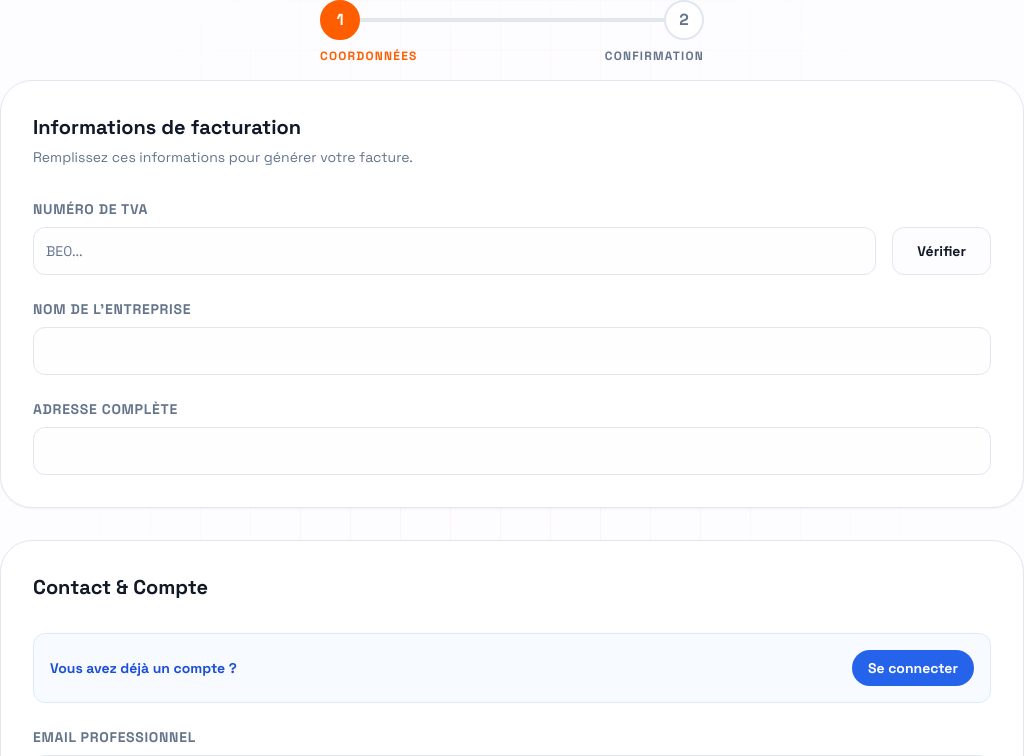
Test: CheckoutForm › check VAT valid
The width and height of the screenshot is (1024, 756).
Type "BE12345" into the field labelled "Numéro de TVA" at {"x": 455, "y": 251}, box x1=33 y1=227 x2=876 y2=275
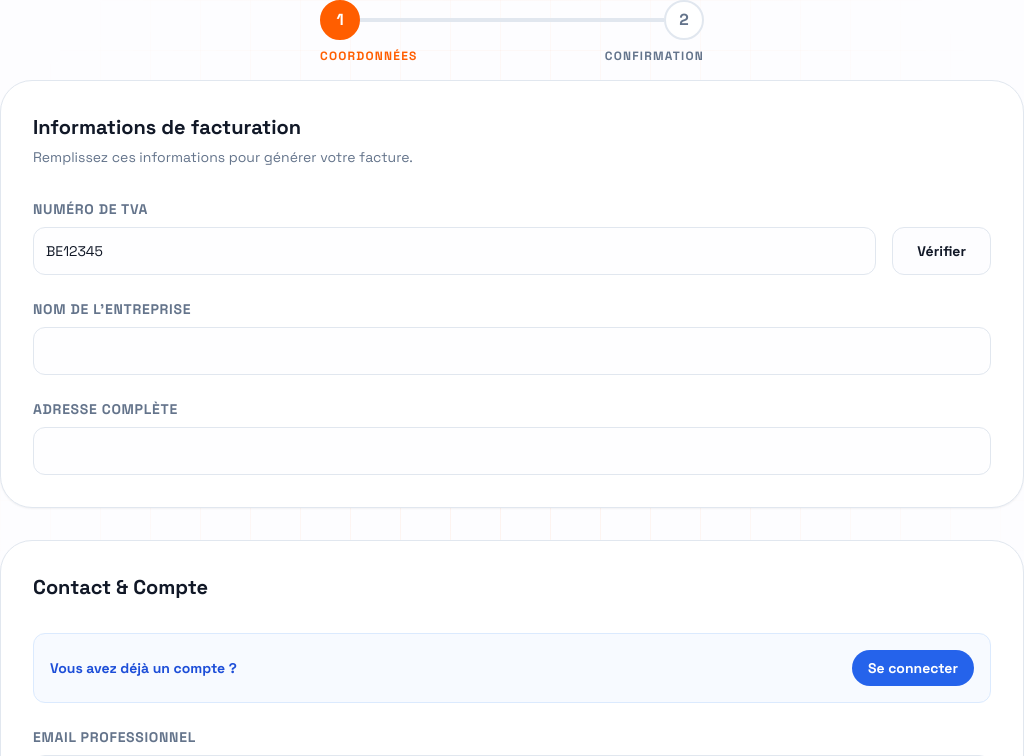
Click the button "Vérifier" at {"x": 942, "y": 251}, box x1=892 y1=227 x2=991 y2=275
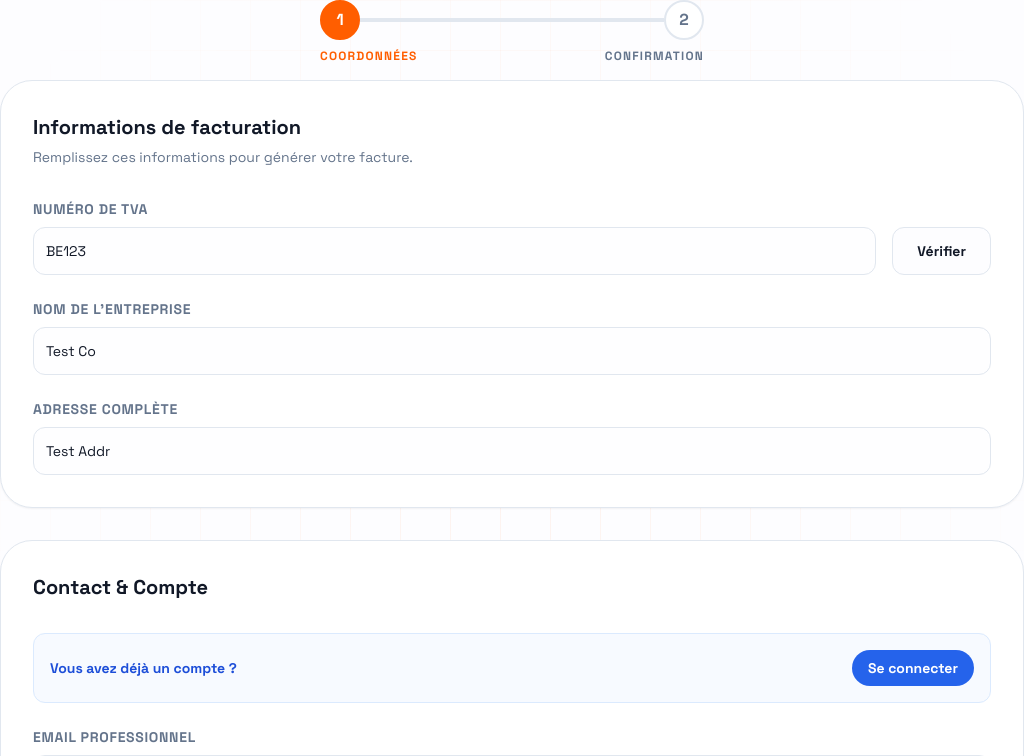
Expected: the field showing "Test Co" is shown, x1=33 y1=327 x2=991 y2=375
